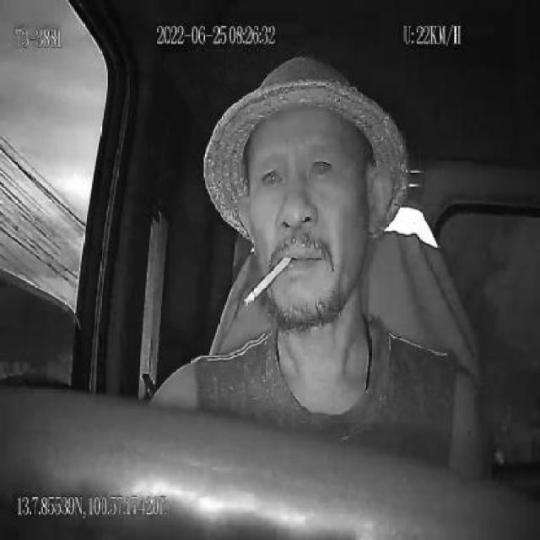smoking: (245, 254, 295, 310)
